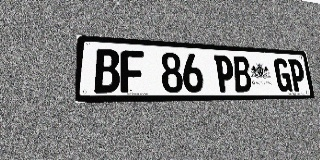6: (182, 53, 204, 92)
8: (160, 52, 183, 93)
B: (94, 48, 120, 93), (232, 56, 252, 92)
F: (120, 50, 144, 93)
G: (273, 58, 292, 92)
P: (214, 55, 235, 92), (288, 59, 306, 92)
